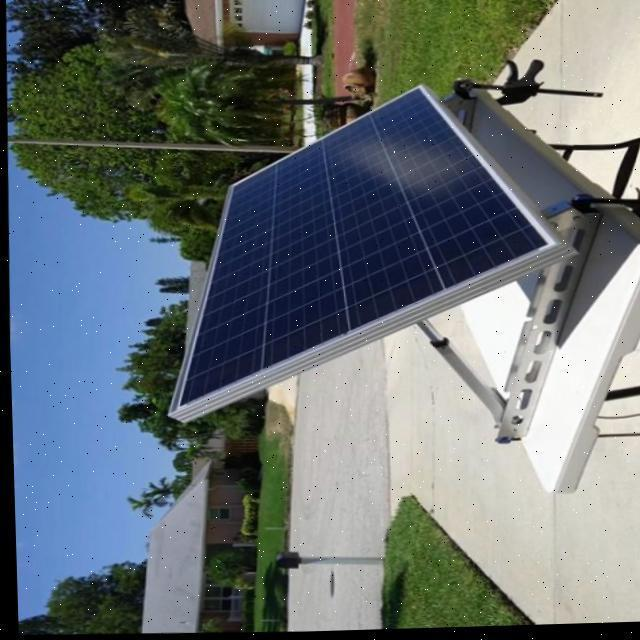Normal Solar Panel: (161, 78, 563, 420)
